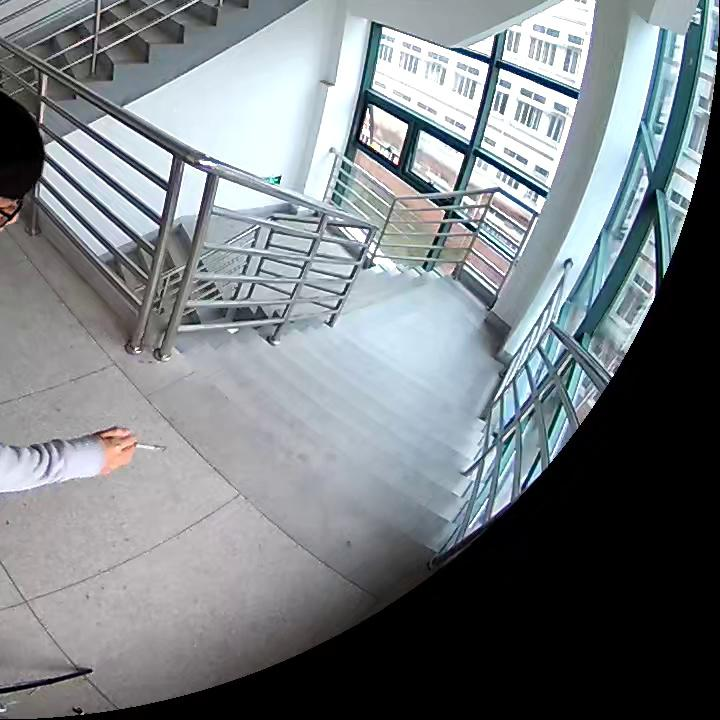handsmoke: (95, 428, 166, 475)
